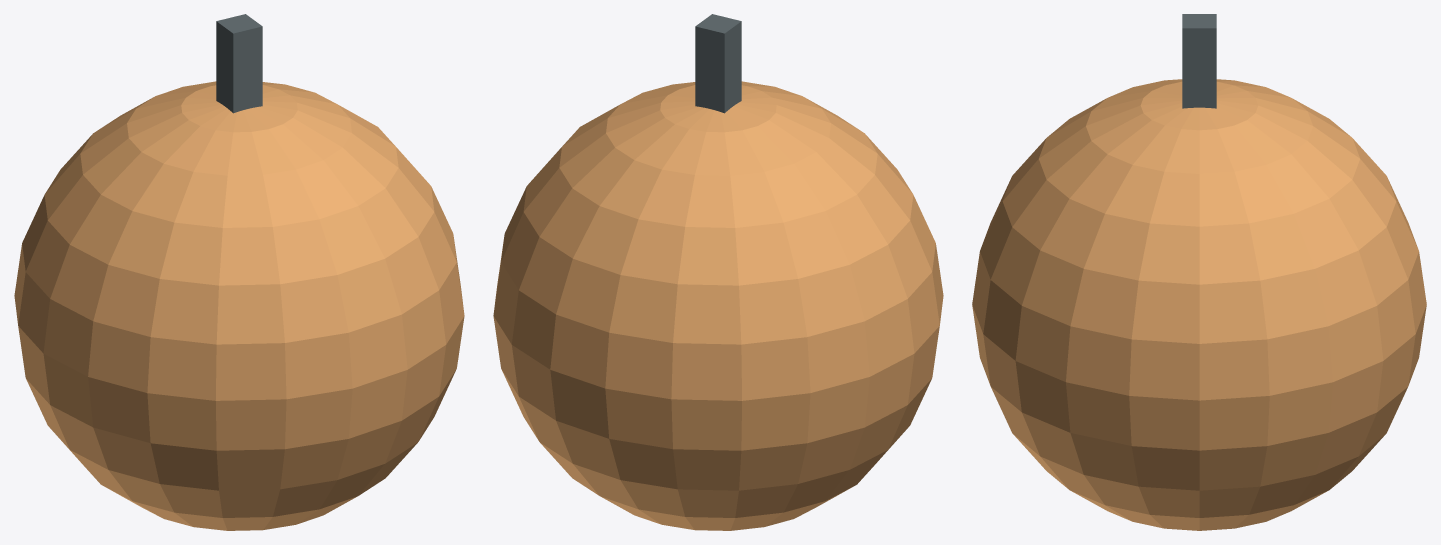
The model's file is item_apple.fbx.
3 renders of one model, left to right at view 1: azimuth 30°, elevation 25°; view 2: azimuth 150°, elevation 25°; view 3: azimuth 270°, elevation 25°, orthographic.
Parts seen in each view (by area): view 1: item_apple, item_apple_Stem; view 2: item_apple, item_apple_Stem; view 3: item_apple, item_apple_Stem.
Boxes of the visible parts, left/top/right/bottom form: item_apple: left=14, top=81, right=464, bottom=530; item_apple_Stem: left=216, top=14, right=262, bottom=113; item_apple: left=493, top=81, right=943, bottom=530; item_apple_Stem: left=695, top=14, right=741, bottom=113; item_apple: left=972, top=79, right=1426, bottom=530; item_apple_Stem: left=1182, top=14, right=1216, bottom=108.
Bounding box in the file's own units: 0.08 × 0.095 × 0.08.
